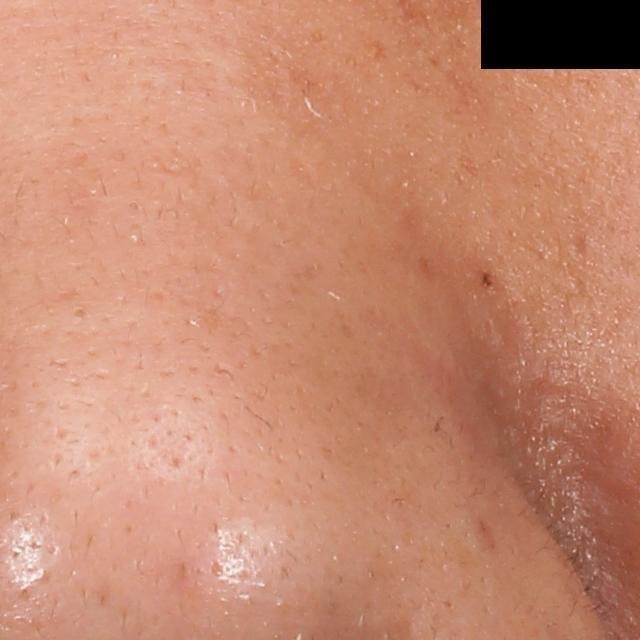comedo: (68, 305, 90, 322)
nevus: (475, 270, 495, 291)
